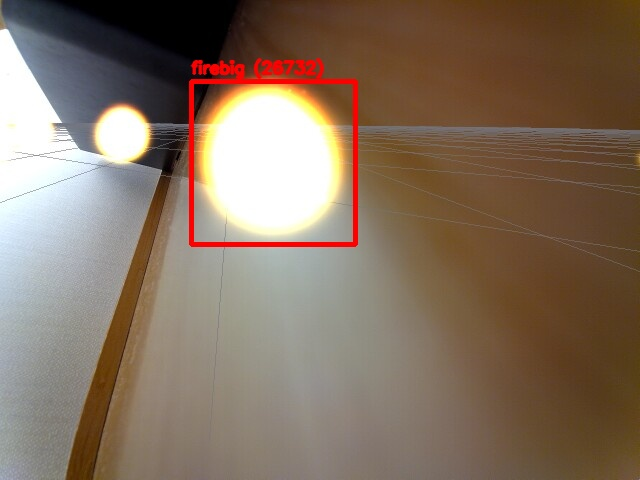firebig: (191, 81, 355, 244)
